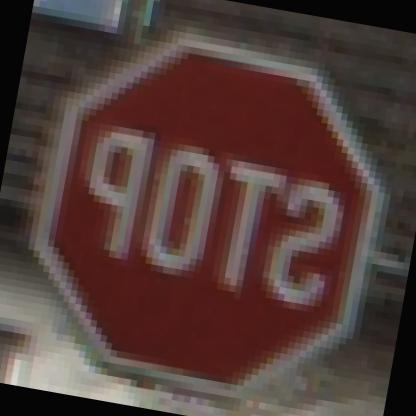stop: (3, 12, 415, 411)
